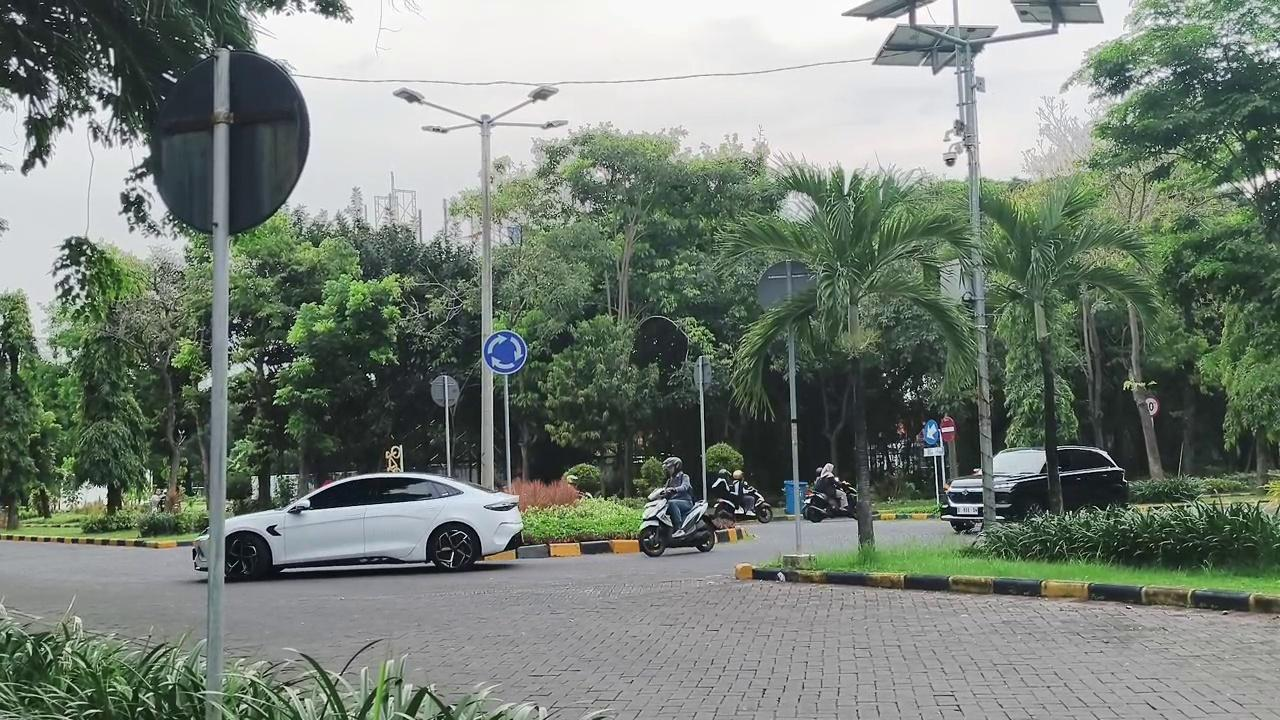Helmet: (663, 457, 692, 533), (814, 463, 840, 510), (731, 470, 756, 514)
Motor: (639, 489, 715, 556), (713, 478, 772, 523), (802, 487, 855, 522)
